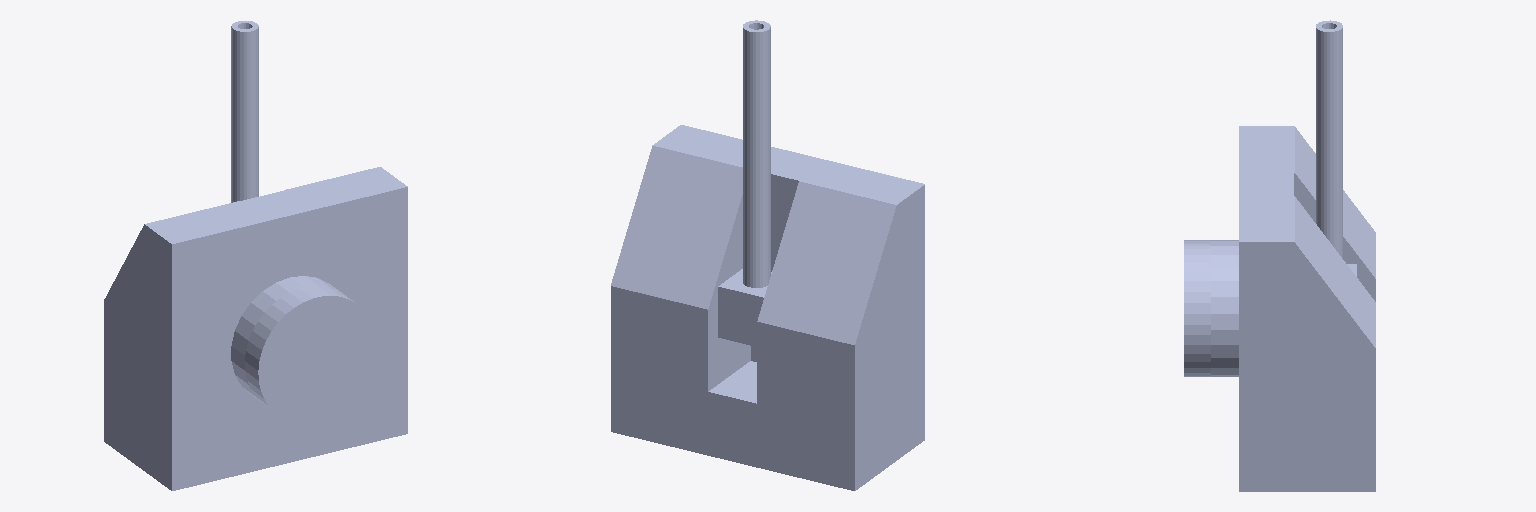
URDF robot description (Turret):
<?xml version="1.0" encoding="utf-8"?>
<!-- This URDF was automatically created by SolidWorks to URDF Exporter! Originally created by [author] ([email redacted]) 
     Commit Version: 1.6.0-4-g7f85cfe  Build Version: 1.6.7995.38578
     For more information, please see http://wiki.ros.org/sw_urdf_exporter -->
<robot
  name="Turret">
  <link
    name="base">
    <inertial>
      <origin
        xyz="0 0.005 0"
        rpy="0 0 0" />
      <mass
        value="0.0196349540849362" />
      <inertia
        ixx="3.23158619314575E-06"
        ixy="-4.74299031266813E-39"
        ixz="0"
        iyy="6.13592315154257E-06"
        iyz="1.21887028383951E-38"
        izz="3.23158619314575E-06" />
    </inertial>
    <visual>
      <origin
        xyz="0 0 0"
        rpy="0 0 0" />
      <geometry>
        <mesh
          filename="package://Turret/meshes/base.STL" />
      </geometry>
      <material
        name="">
        <color
          rgba="0.792156862745098 0.819607843137255 0.933333333333333 1" />
      </material>
    </visual>
    <collision>
      <origin
        xyz="0 0 0"
        rpy="0 0 0" />
      <geometry>
        <mesh
          filename="package://Turret/meshes/base.STL" />
      </geometry>
    </collision>
  </link>
  <link
    name="head">
    <inertial>
      <origin
        xyz="1.56125112837913E-17 0.0307309903151901 -0.00562014722037463"
        rpy="0 0 0" />
      <mass
        value="0.423684878840857" />
      <inertia
        ixx="0.000400381296860664"
        ixy="-4.68192748819734E-20"
        ixz="3.67266287017081E-20"
        iyy="0.000673682621258193"
        iyz="4.14608921495357E-05"
        izz="0.00045787110991625" />
    </inertial>
    <visual>
      <origin
        xyz="0 0 0"
        rpy="0 0 0" />
      <geometry>
        <mesh
          filename="package://Turret/meshes/head.STL" />
      </geometry>
      <material
        name="">
        <color
          rgba="0.792156862745098 0.819607843137255 0.933333333333333 1" />
      </material>
    </visual>
    <collision>
      <origin
        xyz="0 0 0"
        rpy="0 0 0" />
      <geometry>
        <mesh
          filename="package://Turret/meshes/head.STL" />
      </geometry>
    </collision>
  </link>
  <joint
    name="yaw"
    type="revolute">
    <origin
      xyz="0 0.01 0"
      rpy="0 0 0" />
    <parent
      link="base" />
    <child
      link="head" />
    <axis
      xyz="0 1 0" />
    <limit
      lower="-3.1415"
      upper="3.1415"
      effort="1"
      velocity="1" />
  </joint>
  <link
    name="barrel">
    <inertial>
      <origin
        xyz="-3.12250225675825E-17 0 0.024248561432183"
        rpy="0 0 0" />
      <mass
        value="0.0134260331675742" />
      <inertia
        ixx="1.67387334730734E-05"
        ixy="-1.21716375765917E-22"
        ixz="1.72263883210385E-20"
        iyy="1.67387334730734E-05"
        iyz="9.63442059864229E-23"
        izz="6.22126025294151E-07" />
    </inertial>
    <visual>
      <origin
        xyz="0 0 0"
        rpy="0 0 0" />
      <geometry>
        <mesh
          filename="package://Turret/meshes/barrel.STL" />
      </geometry>
      <material
        name="">
        <color
          rgba="0.792156862745098 0.819607843137255 0.933333333333333 1" />
      </material>
    </visual>
    <collision>
      <origin
        xyz="0 0 0"
        rpy="0 0 0" />
      <geometry>
        <mesh
          filename="package://Turret/meshes/barrel.STL" />
      </geometry>
    </collision>
  </link>
  <joint
    name="pitch"
    type="revolute">
    <origin
      xyz="0 0.042984 0.0033423"
      rpy="0 0 0" />
    <parent
      link="head" />
    <child
      link="barrel" />
    <axis
      xyz="-1 0 0" />
    <limit
      lower="0"
      upper="1.5708"
      effort="1"
      velocity="1" />
  </joint>
</robot>

--- Facts derived from the render (not from the file) ---
Views: 3 orthographic renders of the robot side by side, from view 1: azimuth 30°, elevation 25°; view 2: azimuth 150°, elevation 25°; view 3: azimuth 270°, elevation 25°.
Model Turret with 3 links and 2 joints (2 revolute), rooted at base, posed all joints at 0.
Links seen in each view (by area): view 1: head, base, barrel; view 2: head, barrel; view 3: head, barrel, base.
Link boxes in pixels (left/top/right/bottom): head: left=104, top=167, right=407, bottom=490; base: left=245, top=286, right=375, bottom=421; barrel: left=231, top=21, right=258, bottom=202; head: left=611, top=125, right=924, bottom=490; barrel: left=718, top=20, right=771, bottom=346; head: left=1211, top=126, right=1375, bottom=491; barrel: left=1316, top=20, right=1356, bottom=276; base: left=1184, top=240, right=1210, bottom=376.
Size in the robot's own frame: 0.1 by 0.07 by 0.1633 metres.
Meshes: 3 distinct files referenced, 3 mesh visuals loaded (3 binary STL).